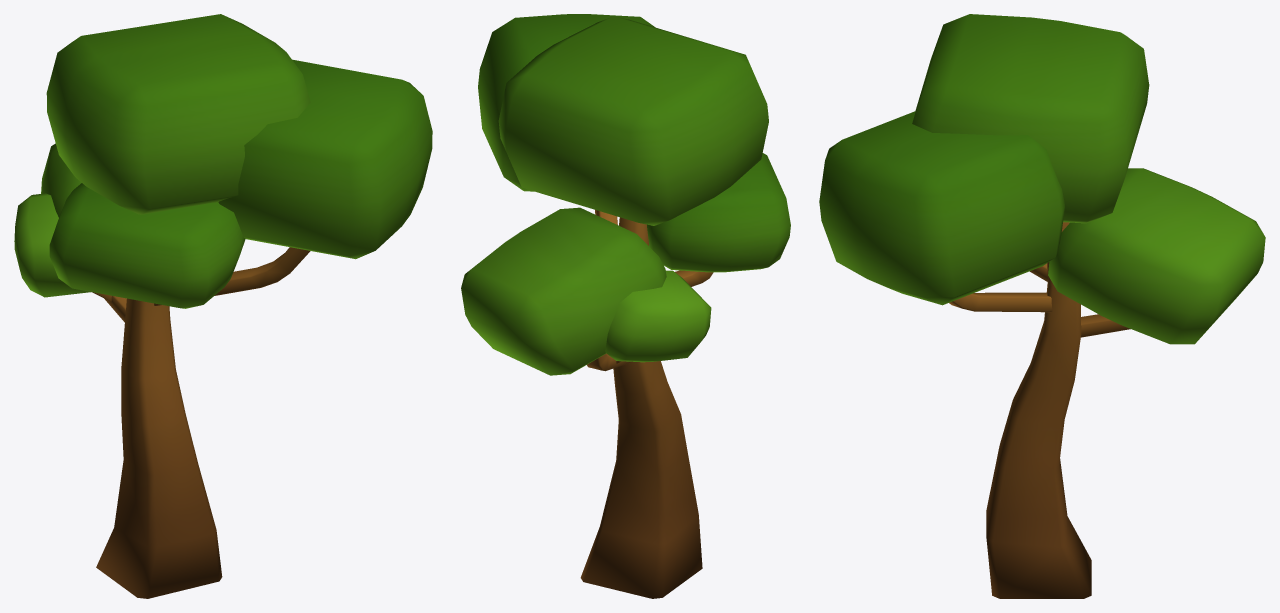
Rendered from Tree_1_4.obj.
The picture shows the model from 3 angles, left to right: view 1: azimuth 30°, elevation 25°; view 2: azimuth 150°, elevation 25°; view 3: azimuth 270°, elevation 25°; orthographic projection. The views are drawn at different scales.
Visible parts, largest first — view 1: Tree_1_4; view 2: Tree_1_4; view 3: Tree_1_4.
Boxes of the visible parts, x1,y1,x2,y2 form: Tree_1_4: (14, 14, 432, 598); Tree_1_4: (461, 14, 790, 598); Tree_1_4: (819, 14, 1265, 598).
Bounding box in the file's own units: 2.51 × 3.71 × 2.8.
